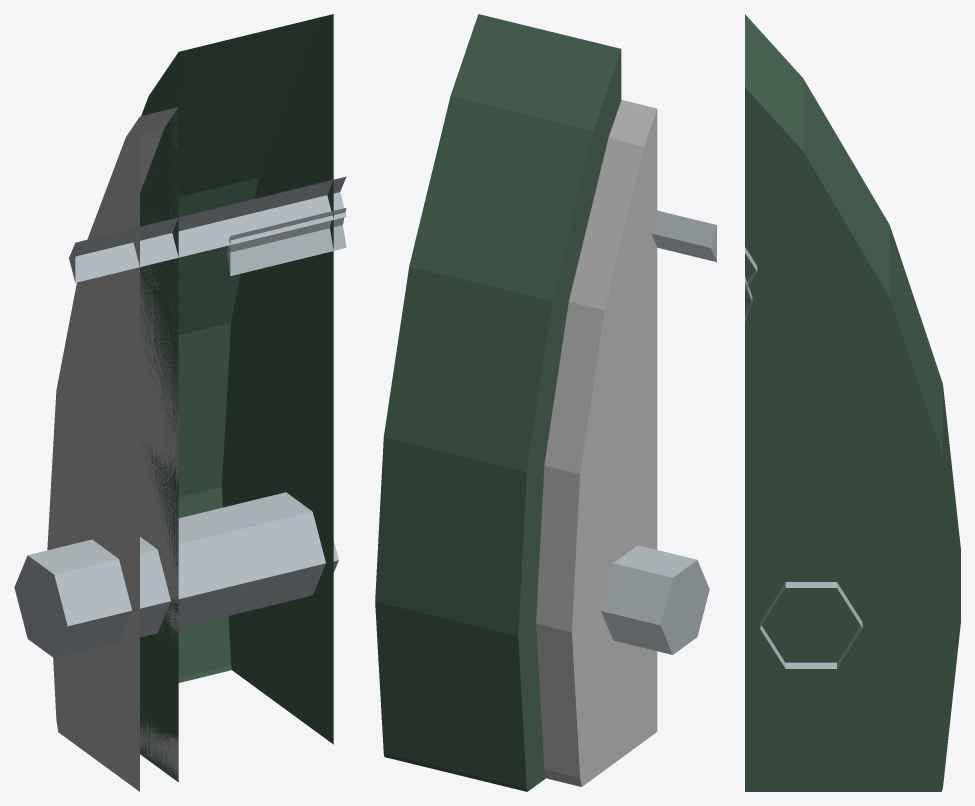
File: cell_81.obj
The picture shows the model from 3 angles, left to right: view 1: azimuth 30°, elevation 25°; view 2: azimuth 150°, elevation 25°; view 3: azimuth 270°, elevation 25°; orthographic projection. The views are drawn at different scales.
Bounding box in the file's own units: 0.21 × 0.5404 × 0.15.
